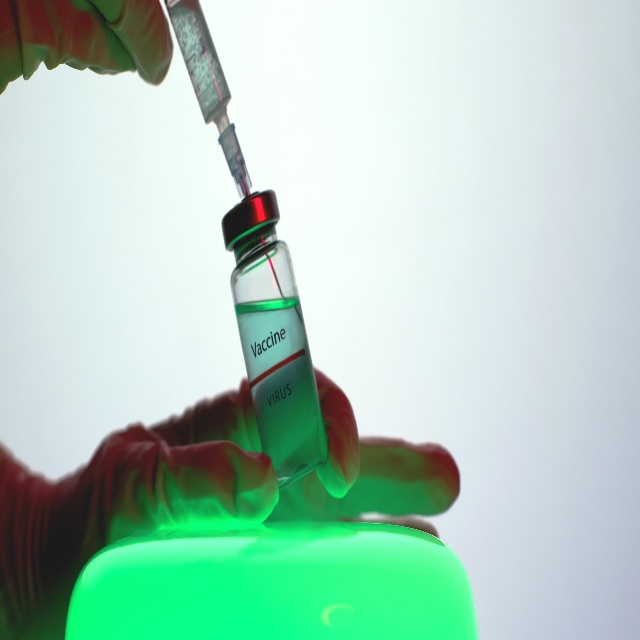Guantes: (0, 364, 459, 640), (0, 0, 175, 96)
